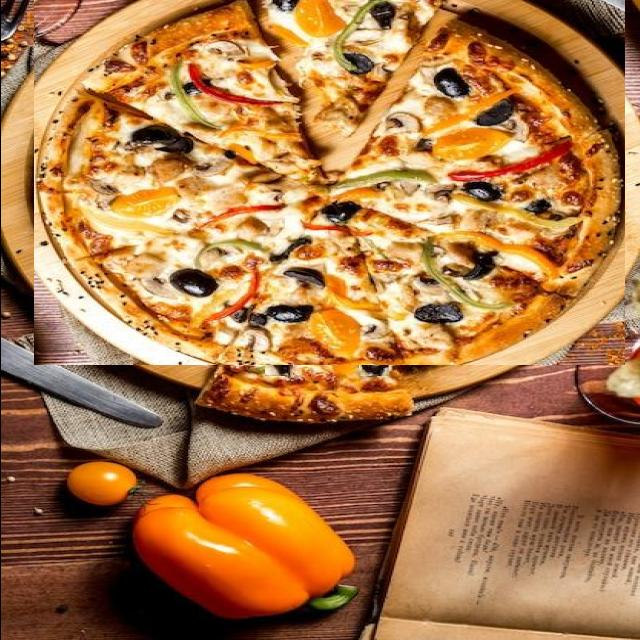olive: (464, 211, 526, 240), (439, 67, 489, 96), (264, 336, 292, 376), (160, 84, 195, 115), (144, 240, 184, 266), (196, 42, 244, 62), (190, 268, 223, 297), (346, 104, 388, 126), (344, 42, 391, 61), (298, 142, 338, 164), (332, 76, 374, 94), (358, 352, 388, 377), (157, 164, 195, 183), (285, 291, 315, 311), (410, 42, 434, 62), (446, 270, 476, 285), (107, 152, 134, 165), (392, 37, 409, 53)
pizza: (33, 0, 624, 365), (194, 227, 414, 423)
